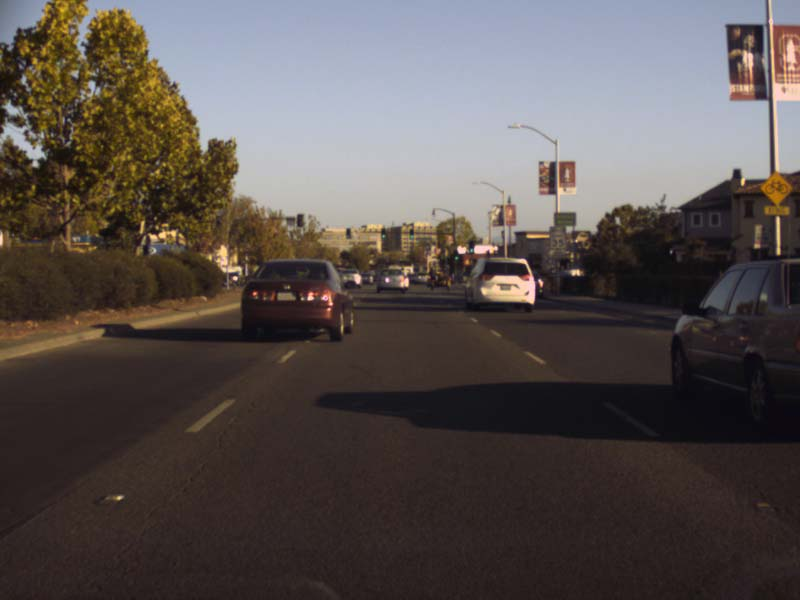Green: (469, 240, 473, 253), (409, 229, 413, 238), (381, 229, 385, 238), (346, 228, 350, 237), (454, 254, 459, 260)
